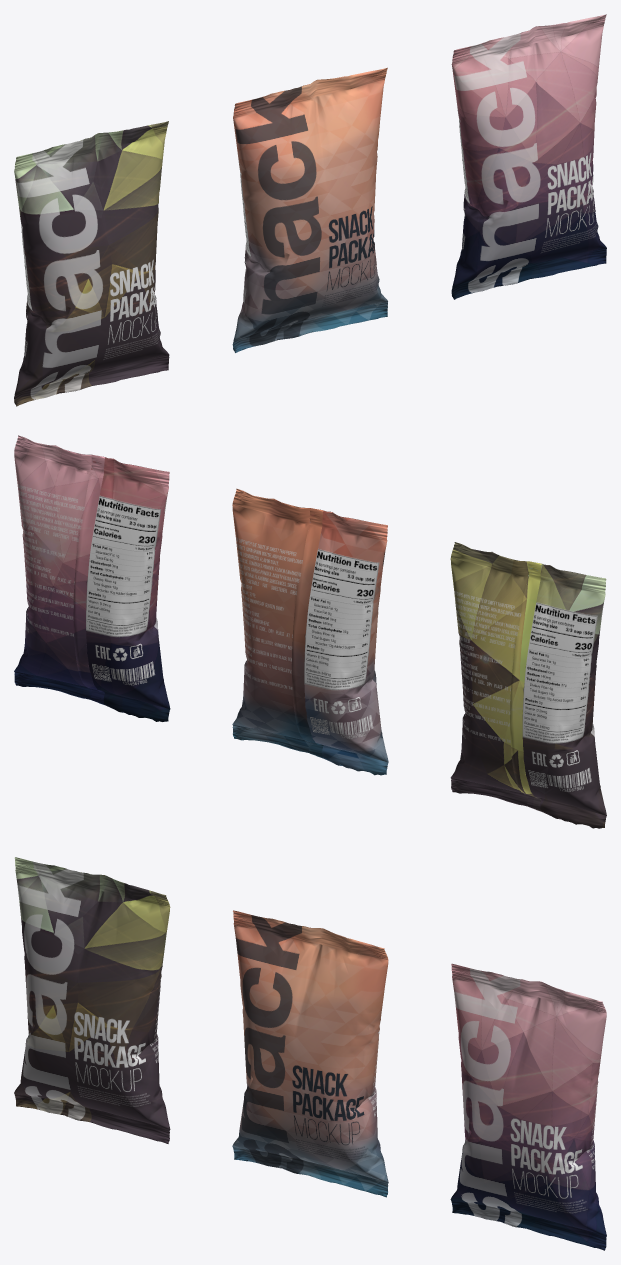
The model's file is snack_package.glb.
3 renders of one model, top to bottom at view 1: azimuth 30°, elevation 25°; view 2: azimuth 150°, elevation 25°; view 3: azimuth 330°, elevation 25°, orthographic.
Visible parts, largest first — view 1: package_03, package_01, package_02; view 2: package_03, package_02, package_01; view 3: package_02, package_03, package_01.
Boxes of the visible parts, x1,y1,x2,y2 form: package_03: (451,14,606,299); package_01: (232,67,387,352); package_02: (14,121,169,406); package_03: (14,435,170,721); package_02: (450,542,606,828); package_01: (232,488,388,775); package_02: (14,857,170,1143); package_03: (450,963,606,1250); package_01: (232,910,388,1197).
Bounding box in the file's own units: 4.07 × 1.65 × 0.4586.
3 materials, 3 textured.
